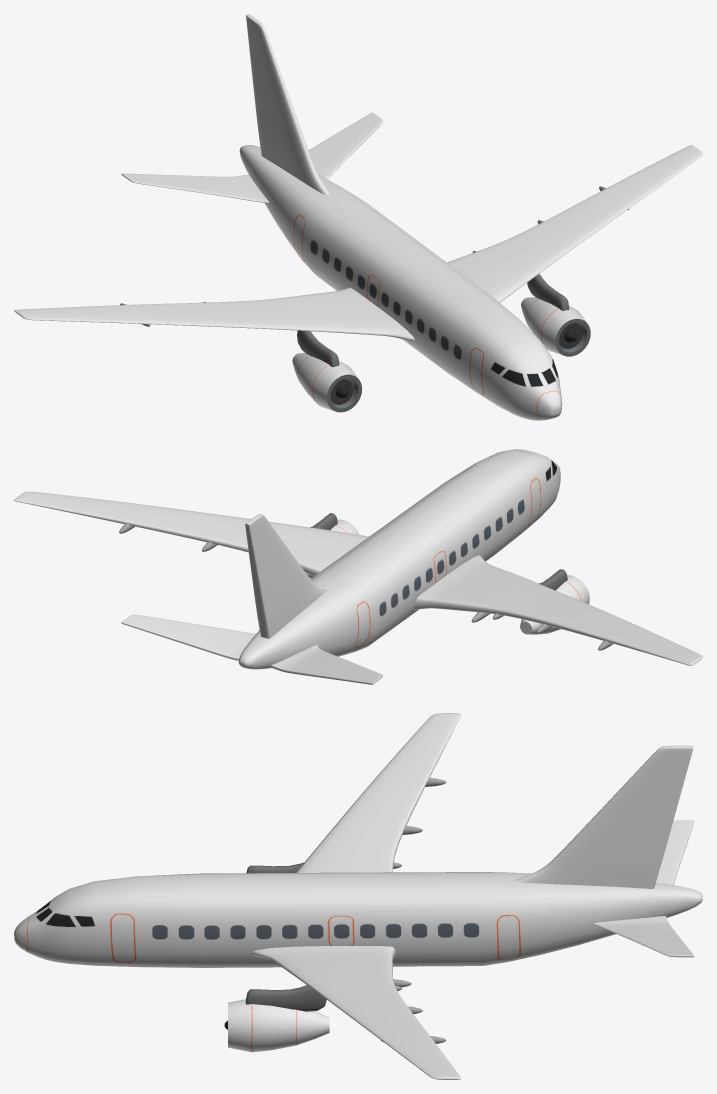
File: airbus318_white.glb
3 views of the same model, one above another, from view 1: azimuth 30°, elevation 25°; view 2: azimuth 150°, elevation 25°; view 3: azimuth 270°, elevation 25° (orthographic). The views are drawn at different scales.
Visible parts, largest first — view 1: airbus318, wings, wing-back-vertical, turbine, wings-back-horizontal, turbine-pad; view 2: airbus318, wings, wing-back-vertical, wings-back-horizontal, turbine, turbine-pad; view 3: airbus318, wings, wing-back-vertical, turbine, wings-back-horizontal, turbine-pad.
Part boxes in pixels (left/top/right/bottom): airbus318: left=239, top=145, right=562, bottom=420; wings: left=14, top=145, right=702, bottom=341; wing-back-vertical: left=246, top=14, right=329, bottom=195; turbine: left=292, top=297, right=590, bottom=412; wings-back-horizontal: left=121, top=112, right=383, bottom=203; turbine-pad: left=297, top=273, right=569, bottom=367; airbus318: left=238, top=449, right=560, bottom=669; wings: left=14, top=491, right=702, bottom=665; wing-back-vertical: left=245, top=514, right=329, bottom=638; wings-back-horizontal: left=121, top=614, right=382, bottom=684; turbine: left=306, top=519, right=589, bottom=634; turbine-pad: left=310, top=513, right=567, bottom=590; airbus318: left=14, top=872, right=702, bottom=967; wings: left=251, top=713, right=461, bottom=1079; wing-back-vertical: left=515, top=745, right=693, bottom=888; turbine: left=224, top=999, right=329, bottom=1052; wings-back-horizontal: left=592, top=820, right=694, bottom=957; turbine-pad: left=245, top=862, right=326, bottom=1011.
Size of the model in its own units: 4.66 by 1.44 by 3.71.
Materials: 1 (1 with a texture image).
